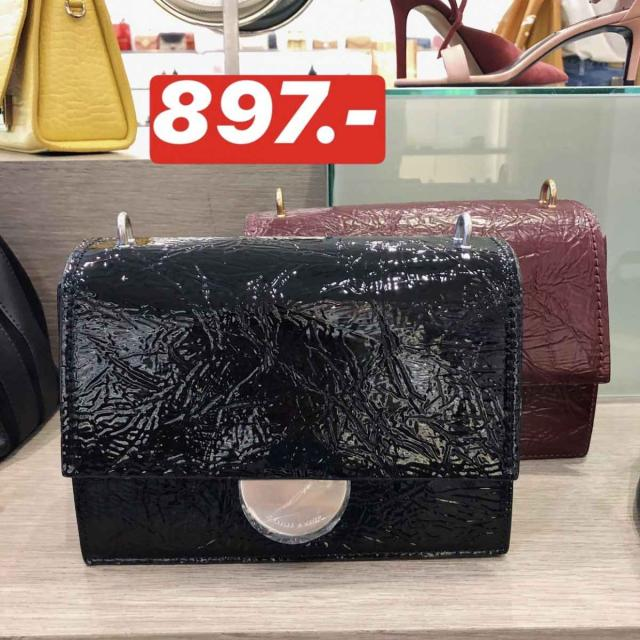Handbag: (52, 231, 524, 567)
